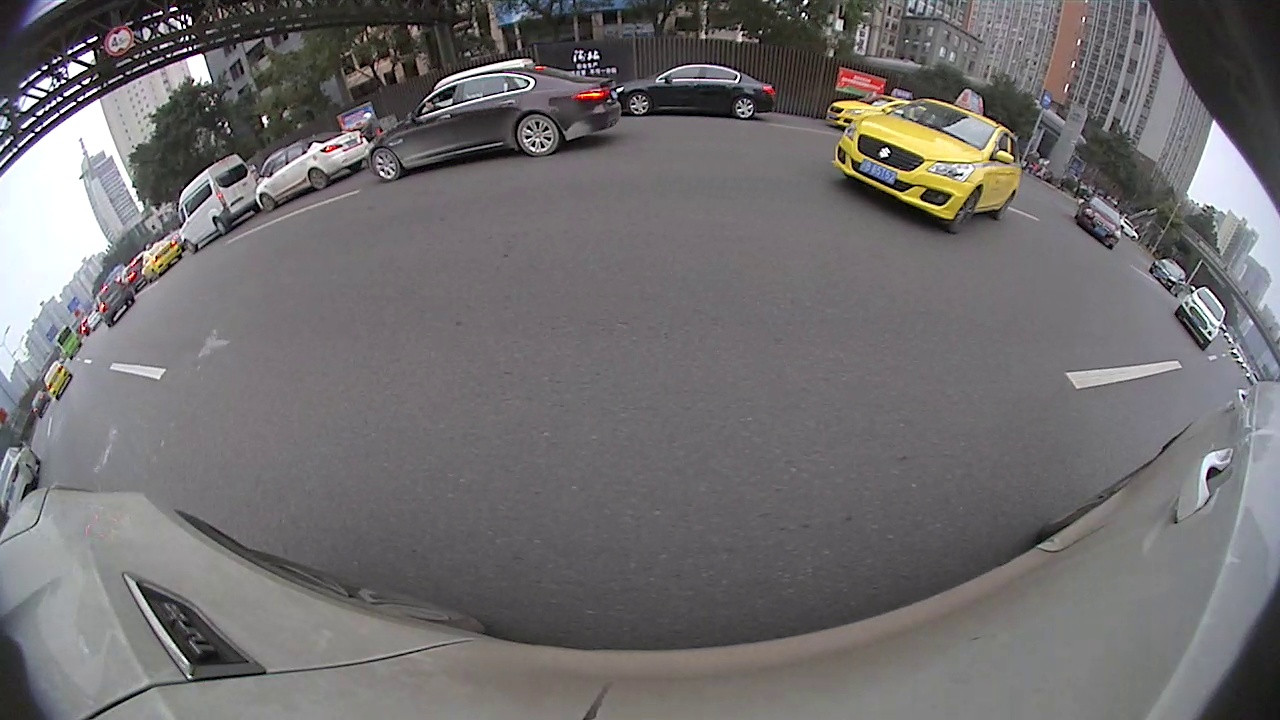car: (367, 68, 622, 181), (254, 131, 369, 212), (615, 63, 776, 120), (178, 152, 258, 254), (826, 88, 916, 131), (1176, 286, 1227, 351), (1075, 193, 1122, 249), (1, 446, 41, 510), (93, 279, 137, 327), (1149, 257, 1186, 298), (42, 360, 74, 399)
front: (952, 192, 980, 230), (371, 150, 401, 182), (628, 92, 647, 115), (260, 196, 273, 210), (186, 242, 196, 254)
rear: (519, 114, 561, 157), (994, 193, 1014, 219), (310, 168, 328, 190), (736, 98, 754, 118), (214, 218, 229, 233)
